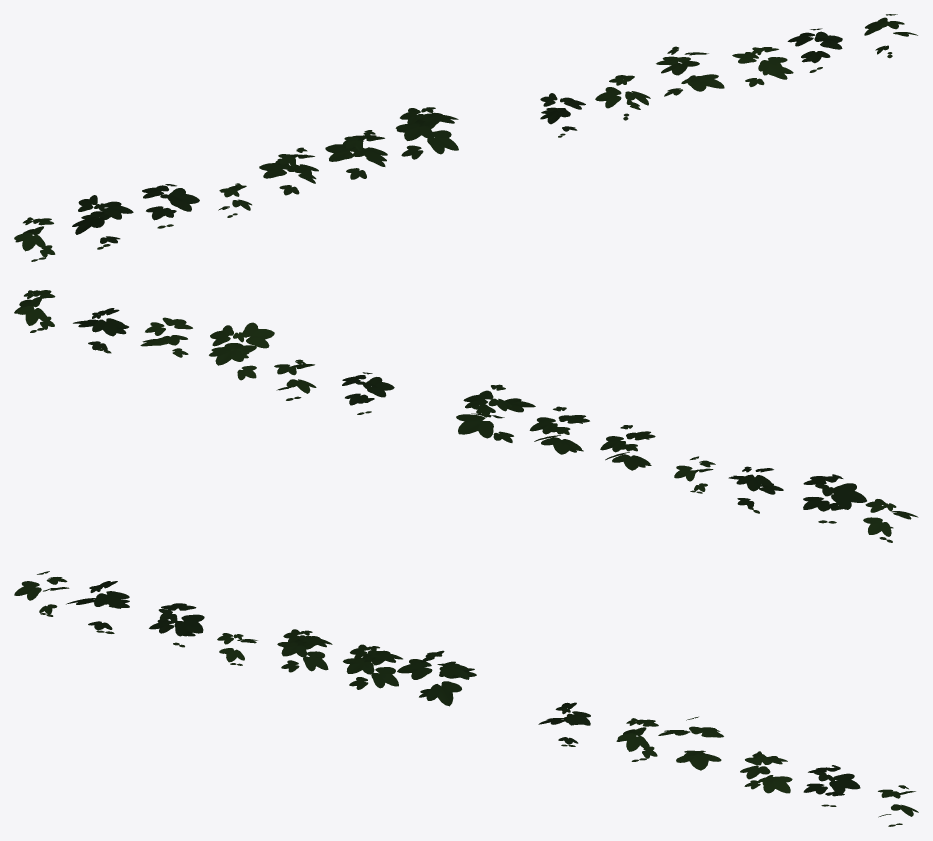
File: ROW_13_SEG5_foliage.dae
The picture shows the model from 3 angles, top to bottom: view 1: azimuth 30°, elevation 25°; view 2: azimuth 150°, elevation 25°; view 3: azimuth 330°, elevation 25°; orthographic projection.
Visible parts, largest first — view 1: ROW_13_SEG5_foliage; view 2: ROW_13_SEG5_foliage; view 3: ROW_13_SEG5_foliage.
Boxes of the visible parts, x1=… form: ROW_13_SEG5_foliage: x1=14, y1=14, x2=917, y2=261; ROW_13_SEG5_foliage: x1=14, y1=290, x2=918, y2=542; ROW_13_SEG5_foliage: x1=14, y1=571, x2=918, y2=826.
Bounding box in the file's own units: 4.2 × 0.3768 × 0.268.
